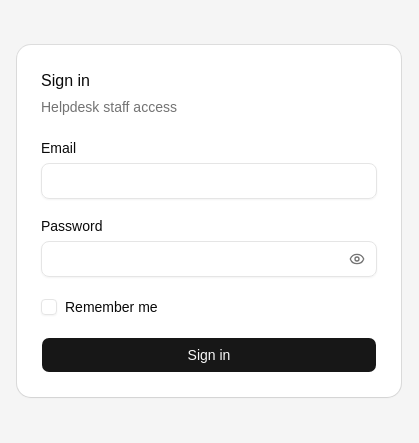
it: LoginPage — field validation › reports the email error first when both fields are empty
The image size is (419, 443).
Click the button "Sign in" at point(209, 355), box [41,337,377,373]
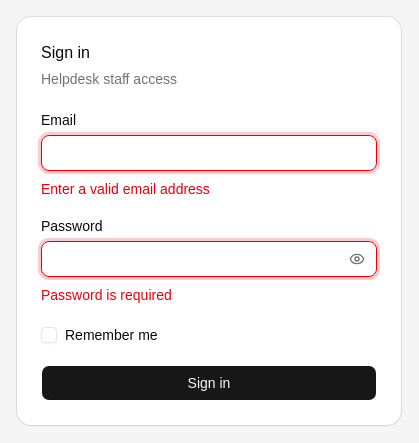
Now the text "Enter a valid email address" is shown, box [41,181,210,197]
